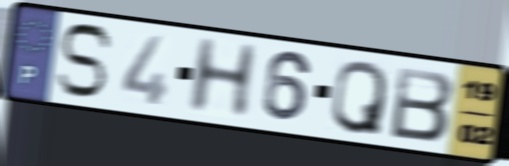4: (119, 33, 171, 107)
6: (261, 48, 313, 127)
B: (388, 63, 457, 144)
H: (183, 35, 262, 119)
Q: (328, 58, 390, 138)
S: (52, 20, 116, 100)
